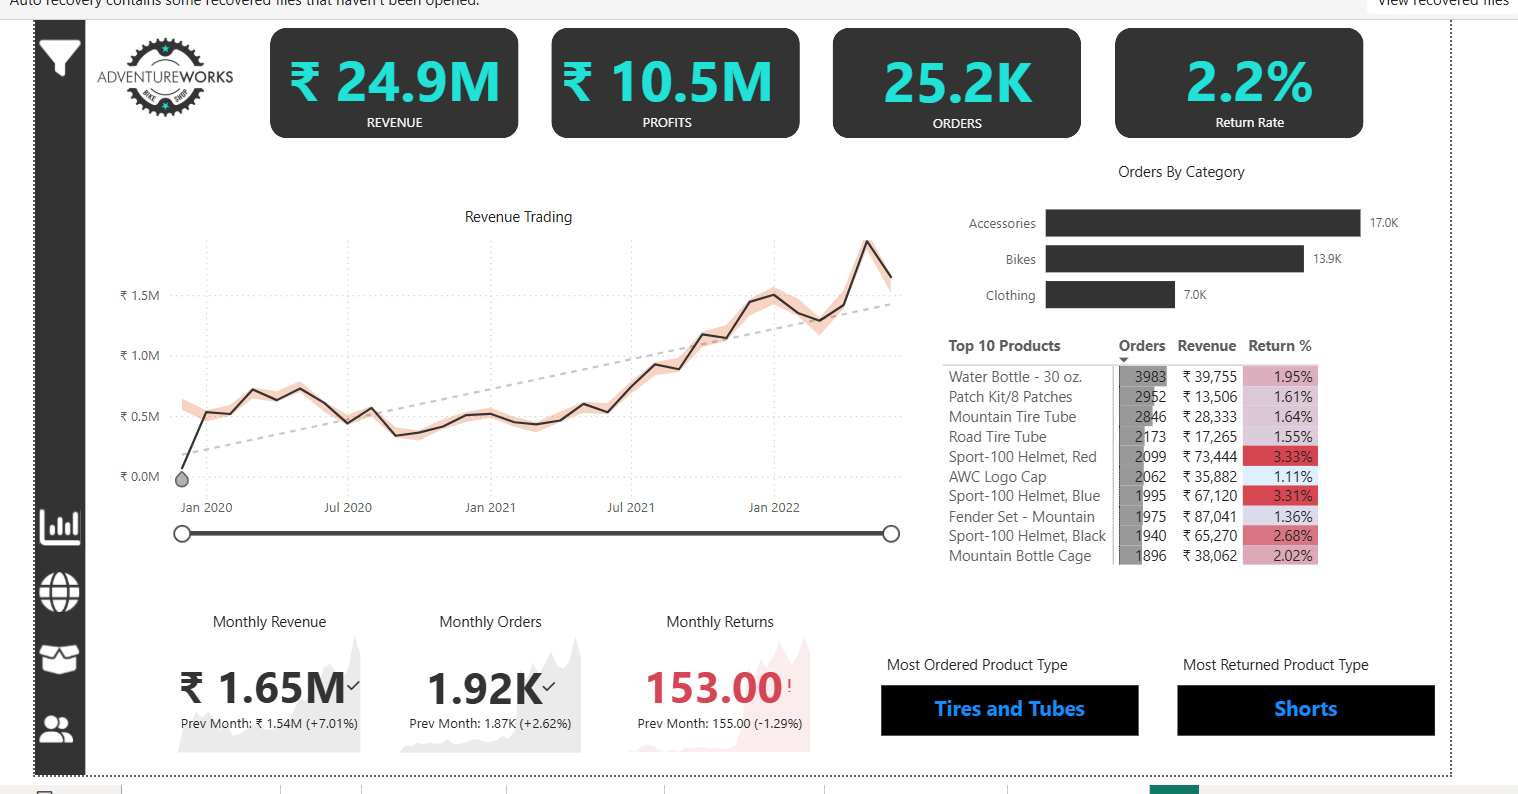

The dashboard page shown, as its layout file describes it:
{"tool":"powerbi","page":{"name":"Exec Dashboard","canvas":[1280,720],"ordinal":0},"visuals":[{"type":"card","fields":{"Values":["Measure Table.Total Profit"]},"box":[393.1,0,359.6,194.2],"z":0,"group":"g2"},{"type":"image","title":"AW Logo","box":[39,11,159,155],"z":0},{"type":"shape","box":[212.6,44.1,225,100],"z":0,"group":"g1"},{"type":"actionButton","box":[0,472.6,45.2,46.4],"z":0,"group":"g3"},{"type":"shape","title":"Left Nav Background","box":[0,0,45.5,720.3],"z":1000},{"type":"card","fields":{"Values":["Measure Table.Total Orders"]},"box":[655,1.2,360,193.8],"z":1000,"group":"g2"},{"type":"shape","box":[467.3,44.1,225,100],"z":1000,"group":"g1"},{"type":"actionButton","box":[0,593,45.2,44.1],"z":1000,"group":"g3"},{"type":"card","fields":{"Values":["Measure Table.Total Revenue"]},"box":[146.2,0,359.6,194.2],"z":2000,"group":"g2"},{"type":"group","id":"g1","title":"KPI Background","box":[212.6,44.1,989,100],"z":2000},{"type":"shape","box":[976.6,44.1,225,100],"z":2000,"group":"g1"},{"type":"actionButton","box":[0,532.1,56.3,44.3],"z":2000,"group":"g3"},{"type":"group","id":"g2","title":"KPIs","box":[146.2,0,1133.8,195],"z":3000},{"type":"card","fields":{"Values":["Measure Table.Return Rate"]},"box":[920,0,360,193.8],"z":3000,"group":"g2"},{"type":"shape","box":[721.9,44.1,225,100],"z":3000,"group":"g1"},{"type":"actionButton","box":[0,659.2,56.5,38.4],"z":3000,"group":"g3"},{"type":"lineChart","title":"Revenue Trading","fields":{"Y":["Measure Table.Total Revenue"],"Category":["Calendar Lookup.Start of Month"]},"box":[70.7,206.1,732.3,306.8],"z":4000},{"type":"kpi","title":"Monthly Revenue","fields":{"Indicator":["Measure Table.Total Revenue"],"TrendLine":["Calendar Lookup.Start of Month"],"Goal":["Measure Table.Previous Month Revenue"]},"box":[124.4,572,175.3,132.6],"z":5000},{"type":"kpi","title":"Monthly Orders","fields":{"TrendLine":["Calendar Lookup.Start of Month"],"Indicator":["Measure Table.Total Orders"],"Goal":["Measure Table.Previous Month Orders"]},"box":[324.8,571.7,175,133],"z":6000},{"type":"kpi","title":"Monthly Returns","fields":{"TrendLine":["Calendar Lookup.Start of Month"],"Indicator":["Measure Table.Total Returns"],"Goal":["Measure Table.Previous Month Returns"]},"box":[532.5,572.1,174.1,132.3],"z":7000},{"type":"clusteredBarChart","title":"Orders By Category","fields":{"Category":["Product Categories Lookup.CategoryName"],"Y":["Measure Table.Total Orders"]},"box":[834.2,165.4,405.1,152.2],"z":8000},{"type":"pivotTable","fields":{"Rows":["Product Lookup.ProductName"],"Values":["Measure Table.Total Orders","Measure Table.Total Revenue","Measure Table.Return Rate"]},"box":[816.2,317.6,405.1,254.1],"z":9000},{"type":"card","fields":{"Values":["Min(Product Subcategories Lookup.SubcategoryName)"]},"box":[765.8,638.8,232.5,45.5],"z":10000},{"type":"textbox","box":[765.8,606.4,232.5,32.4],"z":11000},{"type":"card","fields":{"Values":["Min(Product Subcategories Lookup.SubcategoryName)"]},"box":[1033.1,638.8,232.5,45.5],"z":12000},{"type":"textbox","box":[1033.1,606.4,232.5,32.4],"z":13000},{"type":"actionButton","box":[0,0,45.5,39.6],"z":14000},{"type":"group","id":"g3","title":"Navigation Buttons","box":[0,472.6,56.5,225],"z":15000},{"type":"actionButton","box":[0,44.1,45.2,54.3],"z":16000}]}

Visuals, with their boxes on the page's 1280x720 design canvas (x1, y1, x2, y2). These are canvas units, not pixel positions in the 1518x794 screenshot, which may show the page scaled, cropped or inside an application window:
card - Measure Table.Total Profit: locate(393, 0, 753, 194)
"AW Logo" image: locate(39, 11, 198, 166)
shape: locate(213, 44, 438, 144)
actionButton: locate(0, 473, 45, 519)
"Left Nav Background" shape: locate(0, 0, 46, 720)
card - Measure Table.Total Orders: locate(655, 1, 1015, 195)
shape: locate(467, 44, 692, 144)
actionButton: locate(0, 593, 45, 637)
card - Measure Table.Total Revenue: locate(146, 0, 506, 194)
"KPI Background" group: locate(213, 44, 1202, 144)
shape: locate(977, 44, 1202, 144)
actionButton: locate(0, 532, 56, 576)
"KPIs" group: locate(146, 0, 1280, 195)
card - Measure Table.Return Rate: locate(920, 0, 1280, 194)
shape: locate(722, 44, 947, 144)
actionButton: locate(0, 659, 56, 698)
"Revenue Trading" lineChart: locate(71, 206, 803, 513)
"Monthly Revenue" kpi: locate(124, 572, 300, 705)
"Monthly Orders" kpi: locate(325, 572, 500, 705)
"Monthly Returns" kpi: locate(532, 572, 707, 704)
"Orders By Category" clusteredBarChart: locate(834, 165, 1239, 318)
pivotTable - Product Lookup.ProductName x Measure Table.Total Orders: locate(816, 318, 1221, 572)
card - Min(Product Subcategories Lookup.SubcategoryName): locate(766, 639, 998, 684)
textbox: locate(766, 606, 998, 639)
card - Min(Product Subcategories Lookup.SubcategoryName): locate(1033, 639, 1266, 684)
textbox: locate(1033, 606, 1266, 639)
actionButton: locate(0, 0, 46, 40)
"Navigation Buttons" group: locate(0, 473, 56, 698)
actionButton: locate(0, 44, 45, 98)
